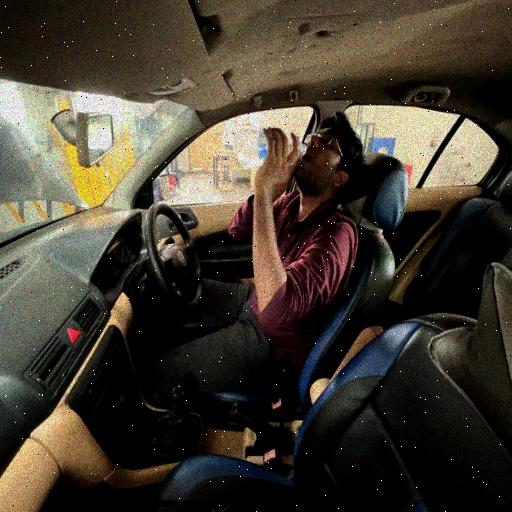Drinking: (178, 110, 369, 363)
